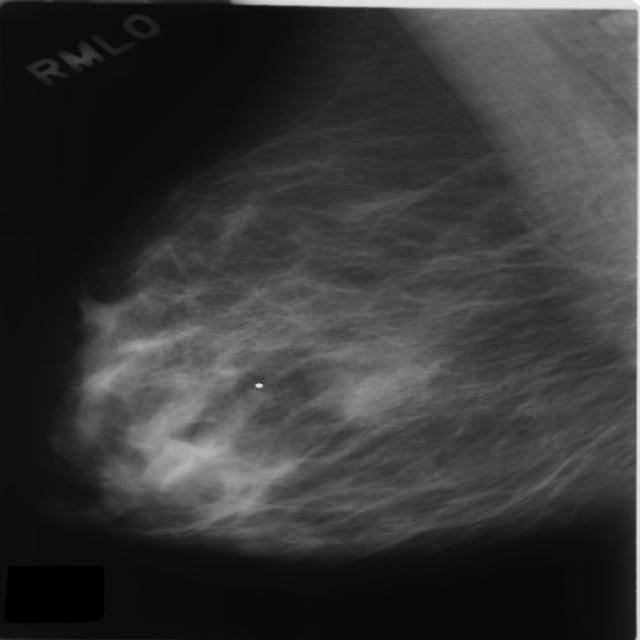tumour: (340, 369, 416, 416)
